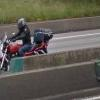Motorcycle: (4, 17, 58, 65)
